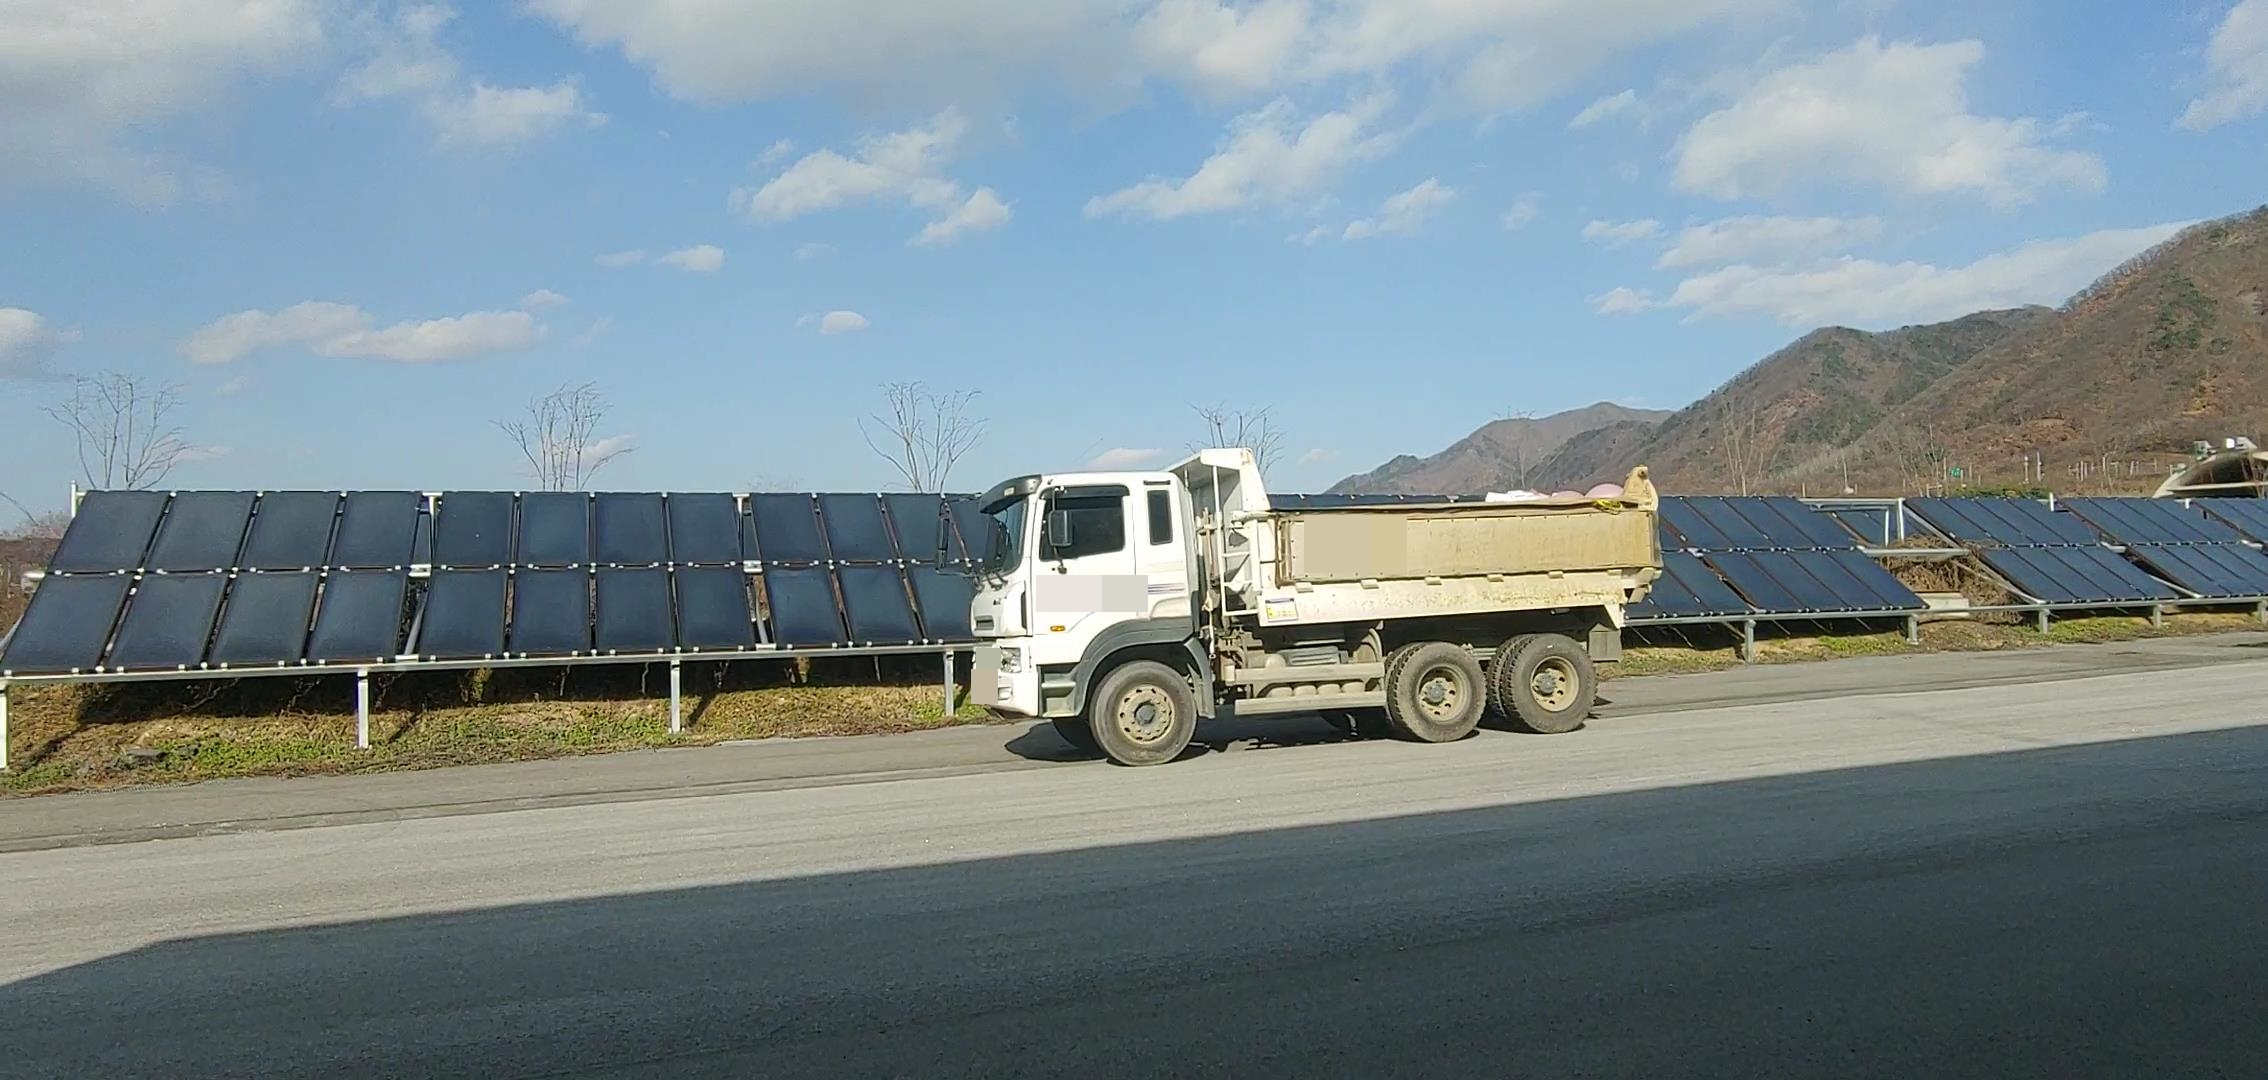불법차량: (934, 448, 1665, 766)
